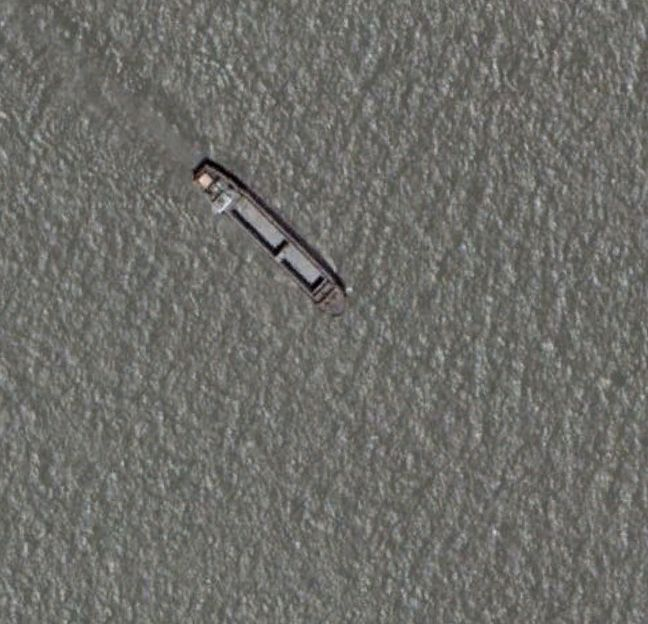boat: (188, 155, 350, 318)
